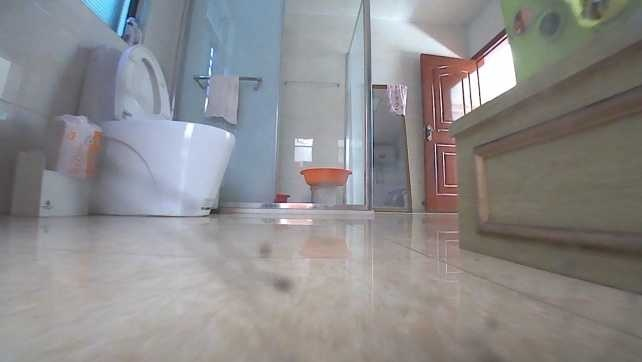toilet: (74, 41, 236, 219)
